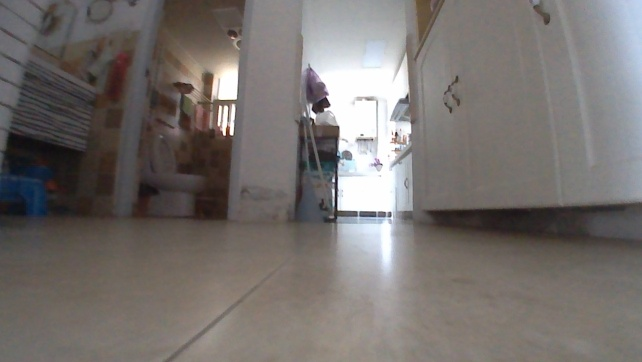cupboard: (387, 140, 415, 223)
toilet: (143, 131, 210, 217)
